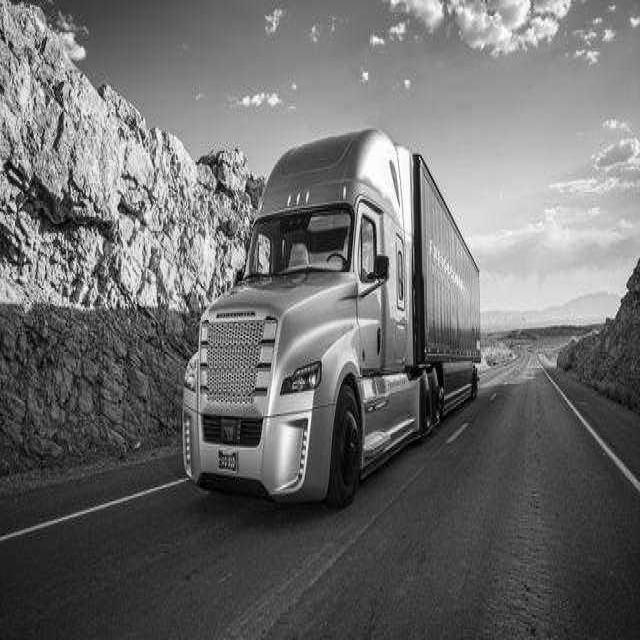Truck: (182, 129, 478, 505)
